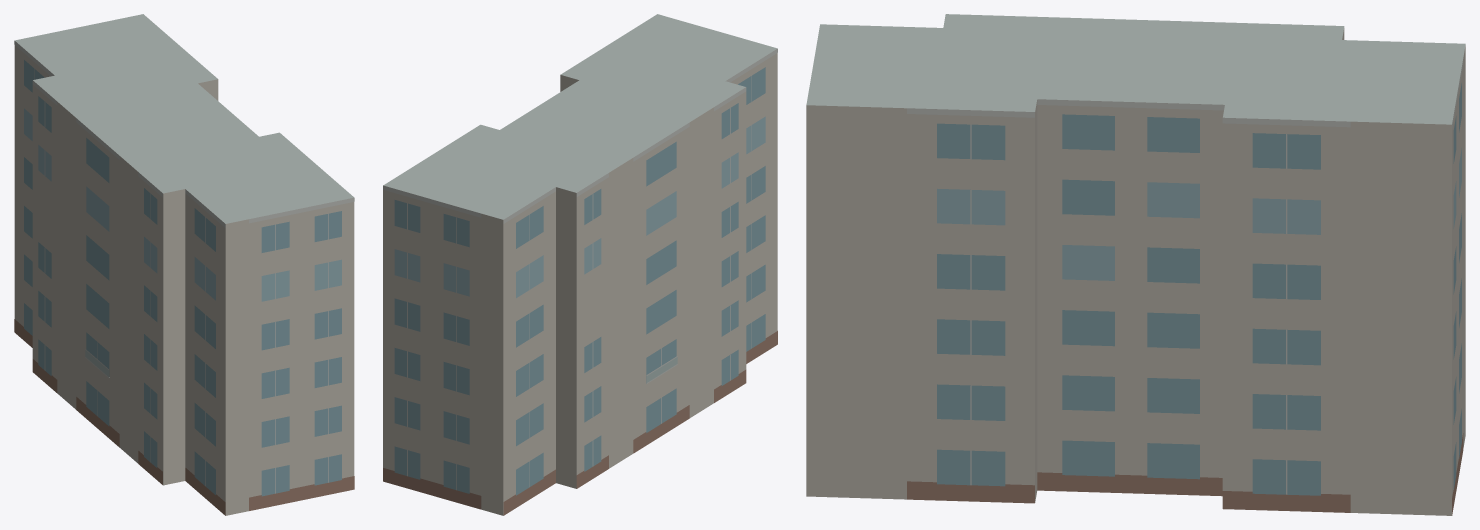
File: survey-upis-32660916.glb
The picture shows the model from 3 angles, left to right: view 1: azimuth 30°, elevation 25°; view 2: azimuth 150°, elevation 25°; view 3: azimuth 270°, elevation 25°; orthographic projection. The views are drawn at different scales.
Parts seen in each view (by area): view 1: survey-upis-32660916.tmp; view 2: survey-upis-32660916.tmp; view 3: survey-upis-32660916.tmp.
Part boxes in pixels (x1,y1,x2,y2): survey-upis-32660916.tmp: (14,14,354,515); survey-upis-32660916.tmp: (383,14,777,515); survey-upis-32660916.tmp: (806,14,1465,515).
Bounding box in the file's own units: 10.19 × 16.8 × 25.66.
